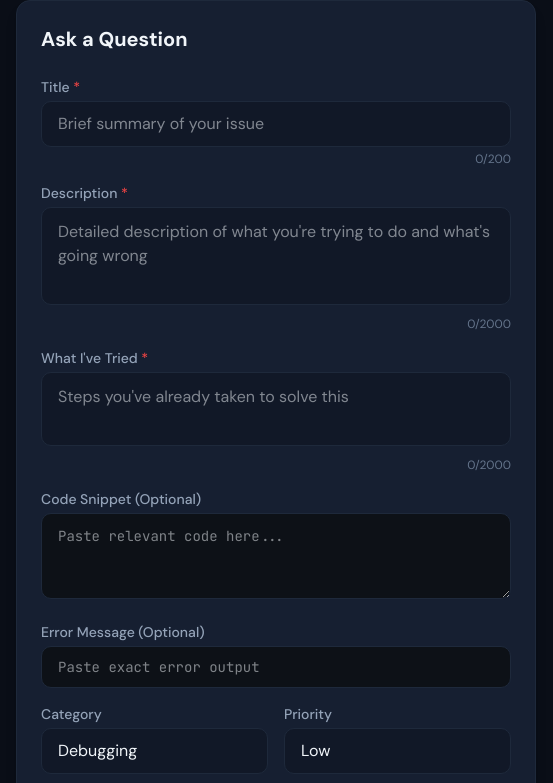
QuestionSubmissionForm › similar questions panel appears when title > 5 chars
# Type 6 characters
Type "abcdef" into the field with placeholder "Brief summary of your issue" at [276, 124], box [41,101,511,147]
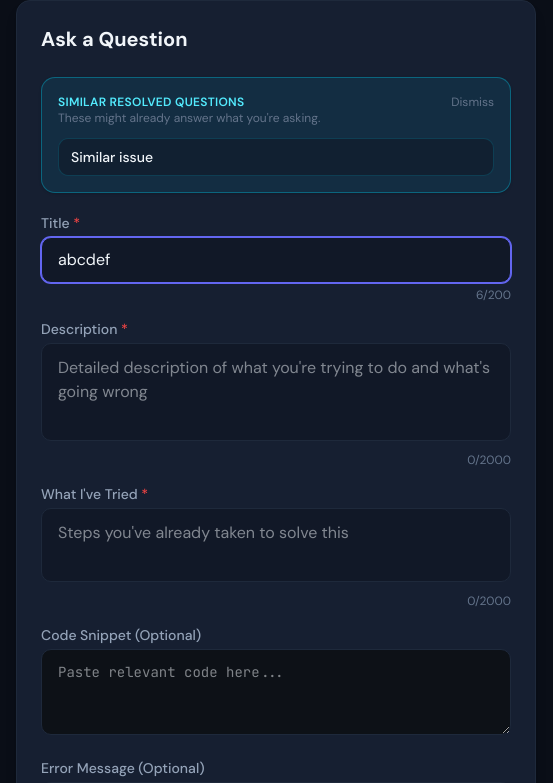
Now the text "Similar issue" is shown, box [71,148,153,166]
